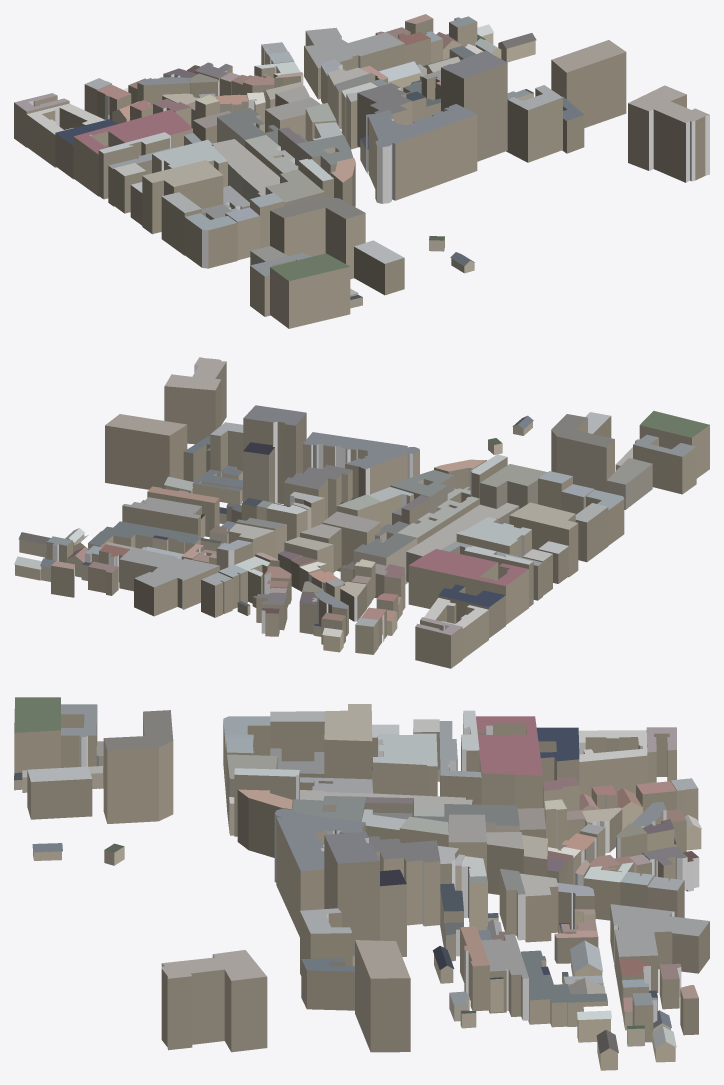
3 views of the same model, one above another, from view 1: azimuth 30°, elevation 25°; view 2: azimuth 150°, elevation 25°; view 3: azimuth 270°, elevation 25° (orthographic). The views are drawn at different scales.
Visible parts, largest first — view 1: tuile; view 2: tuile; view 3: tuile.
Boxes of the visible parts, <box> form: tuile: <box>14,14,709,328</box>; tuile: <box>14,357,709,668</box>; tuile: <box>14,697,709,1070</box>.
Bounding box in the file's own units: 251 × 52.68 × 254.
